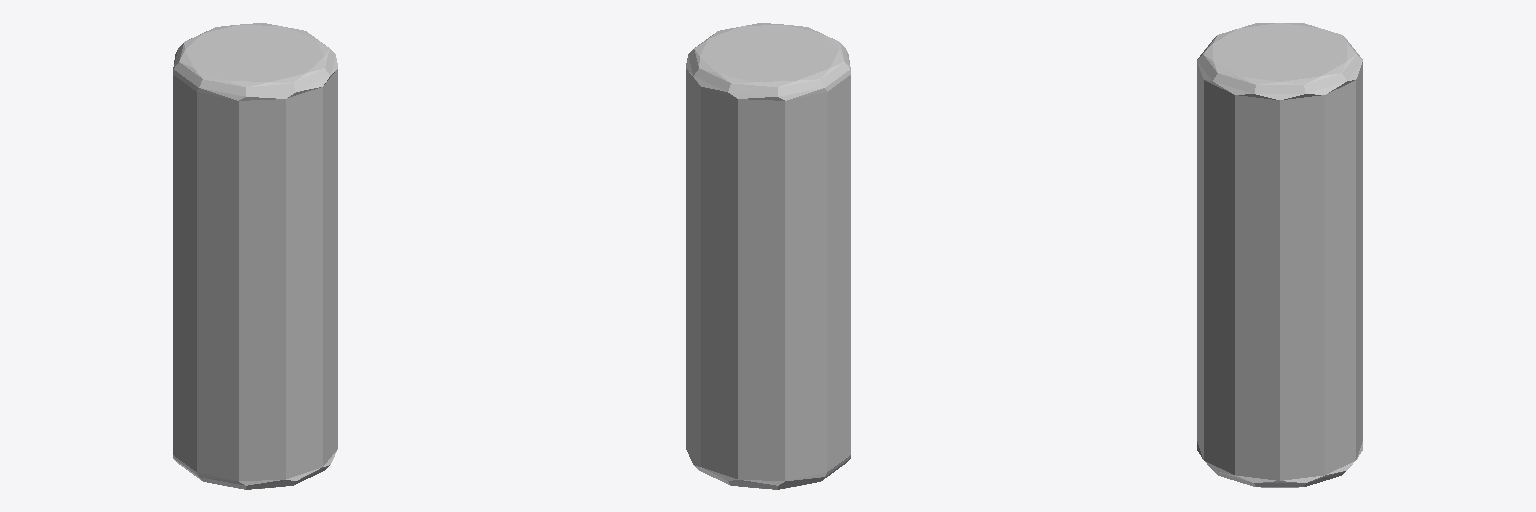
Rendered from 76. Штифт.obj.
The picture shows the model from 3 angles: view 1: azimuth 30°, elevation 25°; view 2: azimuth 150°, elevation 25°; view 3: azimuth 270°, elevation 25°; orthographic projection.
Visible parts, largest first — view 1: Твердое тело1; view 2: Твердое тело1; view 3: Твердое тело1.
Part boxes in pixels (bbox=[...]): Твердое тело1: bbox=[173, 23, 337, 489]; Твердое тело1: bbox=[686, 23, 850, 489]; Твердое тело1: bbox=[1197, 23, 1362, 487].
Bounding box in the file's own units: 5.88 × 16 × 5.94.